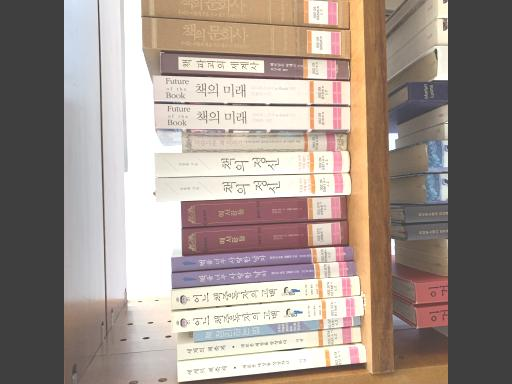book-spine: (142, 16, 351, 57), (172, 297, 364, 332), (177, 346, 367, 381), (177, 326, 361, 359), (171, 277, 360, 309), (141, 0, 349, 28), (153, 74, 350, 103), (155, 172, 351, 201), (182, 220, 348, 254), (154, 102, 351, 129), (181, 194, 347, 226), (154, 150, 351, 176), (172, 260, 356, 287), (160, 51, 350, 77), (171, 246, 353, 271), (194, 315, 361, 341), (182, 132, 347, 151)
